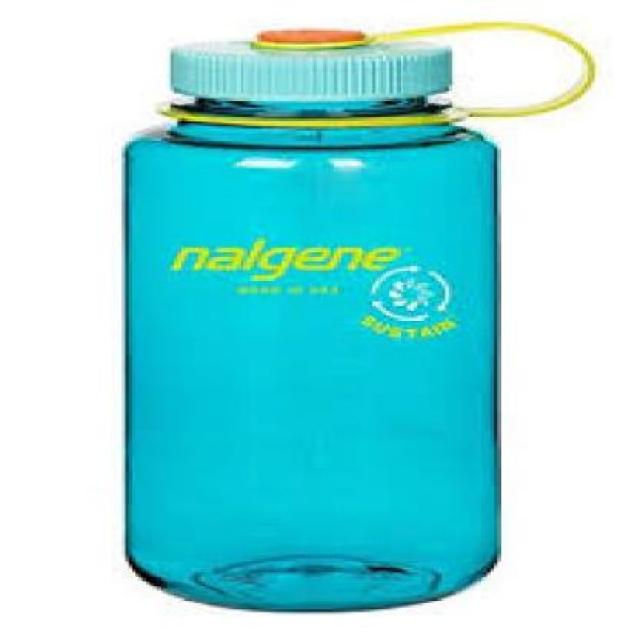Drinking: (87, 12, 525, 616)
